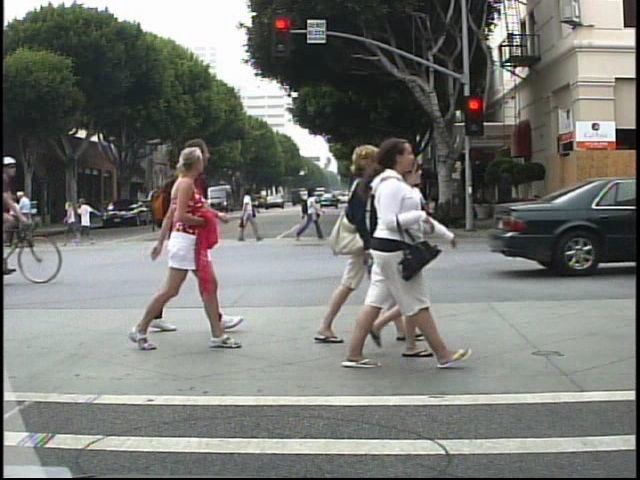person: (363, 137, 441, 376), (148, 146, 233, 353), (364, 159, 441, 369), (311, 143, 380, 357), (182, 140, 236, 338), (293, 183, 327, 245), (233, 185, 263, 250), (406, 177, 434, 244), (16, 188, 40, 226), (372, 187, 388, 223)
